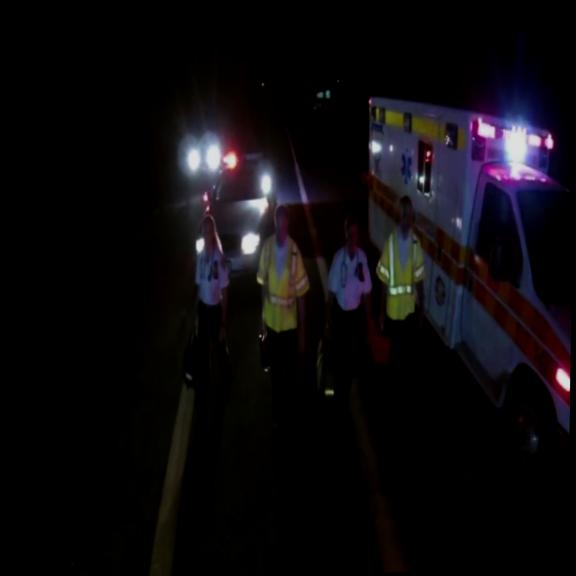safety_vest: (250, 230, 312, 334), (368, 225, 427, 321)
